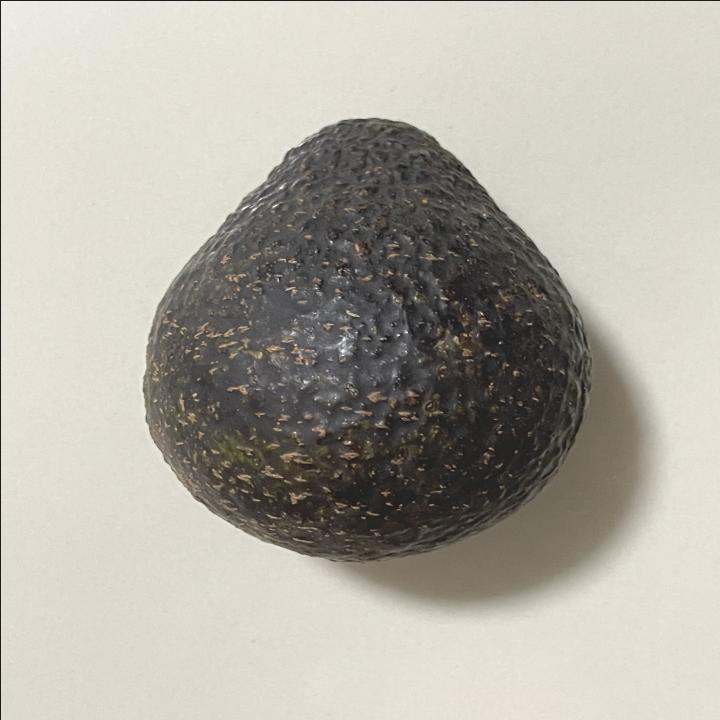Level2: (138, 107, 600, 570)
